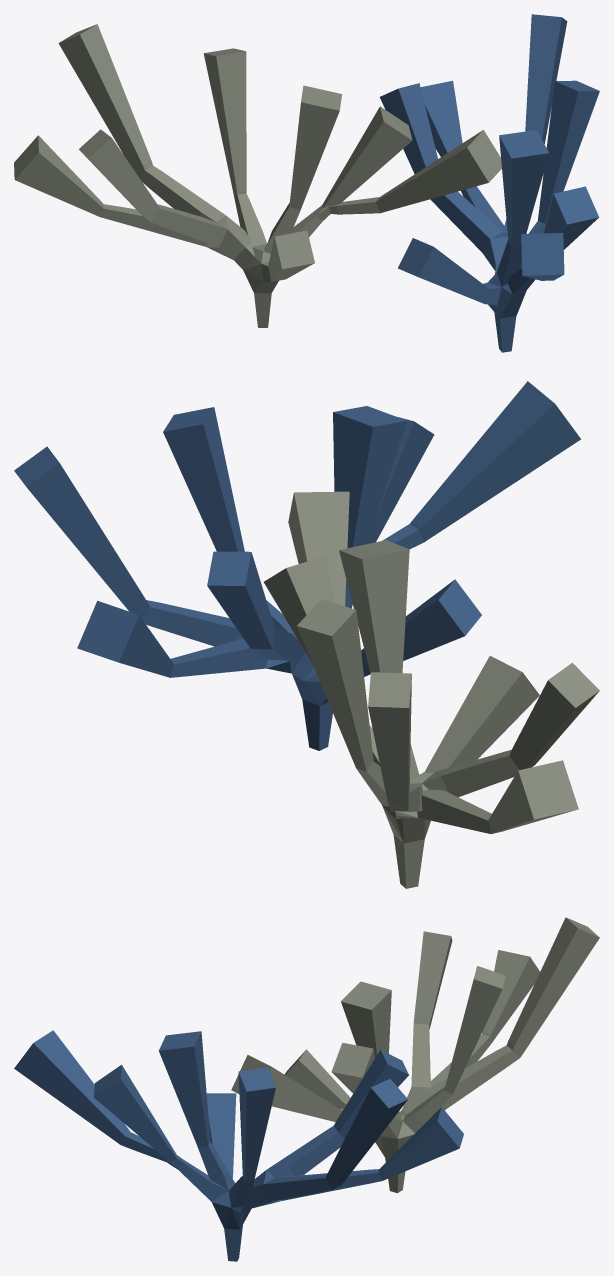
File: Coral2MED.glb
3 views of the same model, one above another, from view 1: azimuth 30°, elevation 25°; view 2: azimuth 150°, elevation 25°; view 3: azimuth 270°, elevation 25° (orthographic). The views are drawn at different scales.
Visible parts, largest first — view 1: Plane.002, Plane.001; view 2: Plane.001, Plane.002; view 3: Plane.001, Plane.002.
Boxes of the visible parts, x1,y1,x2,y2 form: Plane.002: (14, 24, 501, 327); Plane.001: (380, 14, 599, 352); Plane.001: (14, 381, 580, 750); Plane.002: (264, 491, 599, 888); Plane.001: (14, 1030, 463, 1261); Plane.002: (231, 917, 599, 1193).
Bounding box in the file's own units: 0.1698 × 0.0829 × 0.1891.
